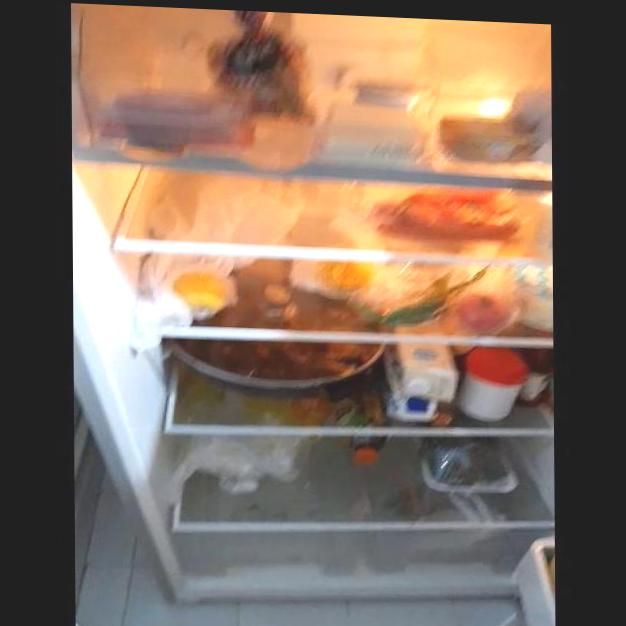bread: (219, 33, 313, 126)
broccoli: (426, 438, 508, 485)
green chilies: (362, 286, 452, 328)
lemon: (173, 270, 235, 316), (325, 260, 374, 293)
milk: (391, 342, 454, 421)
tomato: (457, 295, 514, 331)
